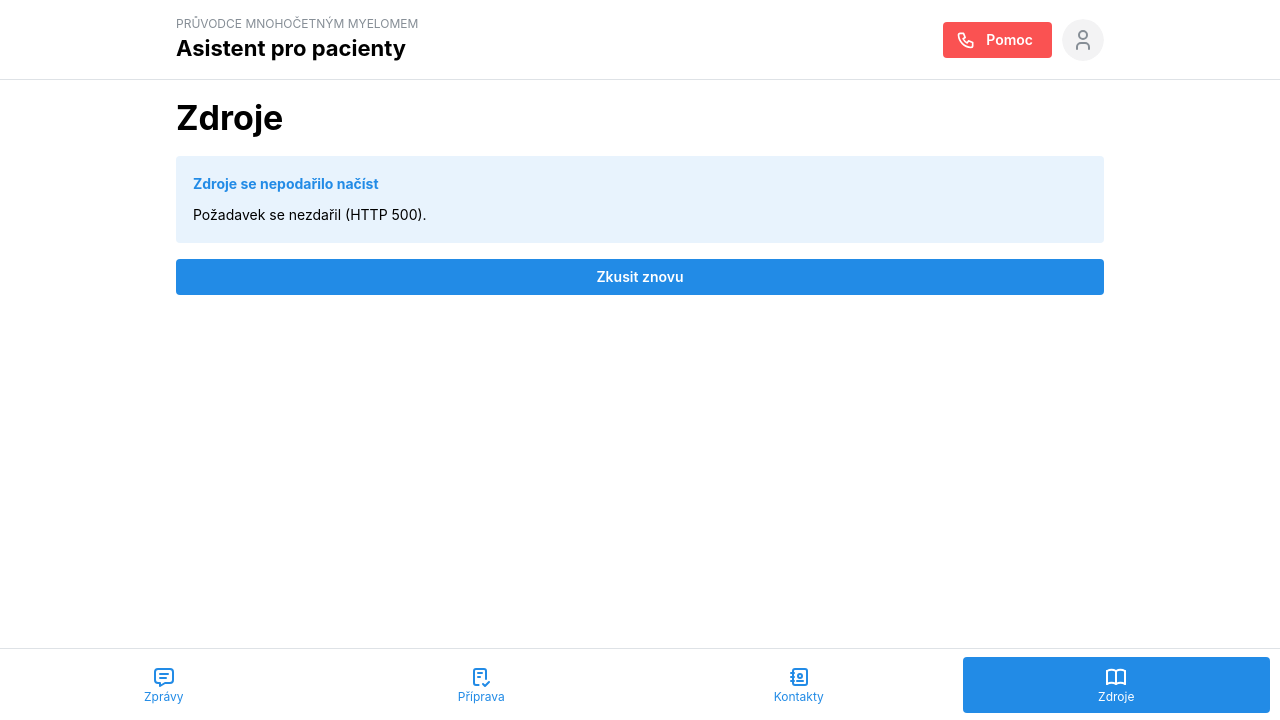
Scenario: application routing › shows knowledge errors and retries instead of showing a successful empty list
The width and height of the screenshot is (1280, 720).
Expected: the text "Zdroje se nepodařilo načíst" is shown, [193,173,378,194]
Expected: the text "Zatím nejsou dostupné žádné dokumenty." is not shown
Click the button "Zkusit znovu".
click(640, 277)  # box [176,259,1104,295]
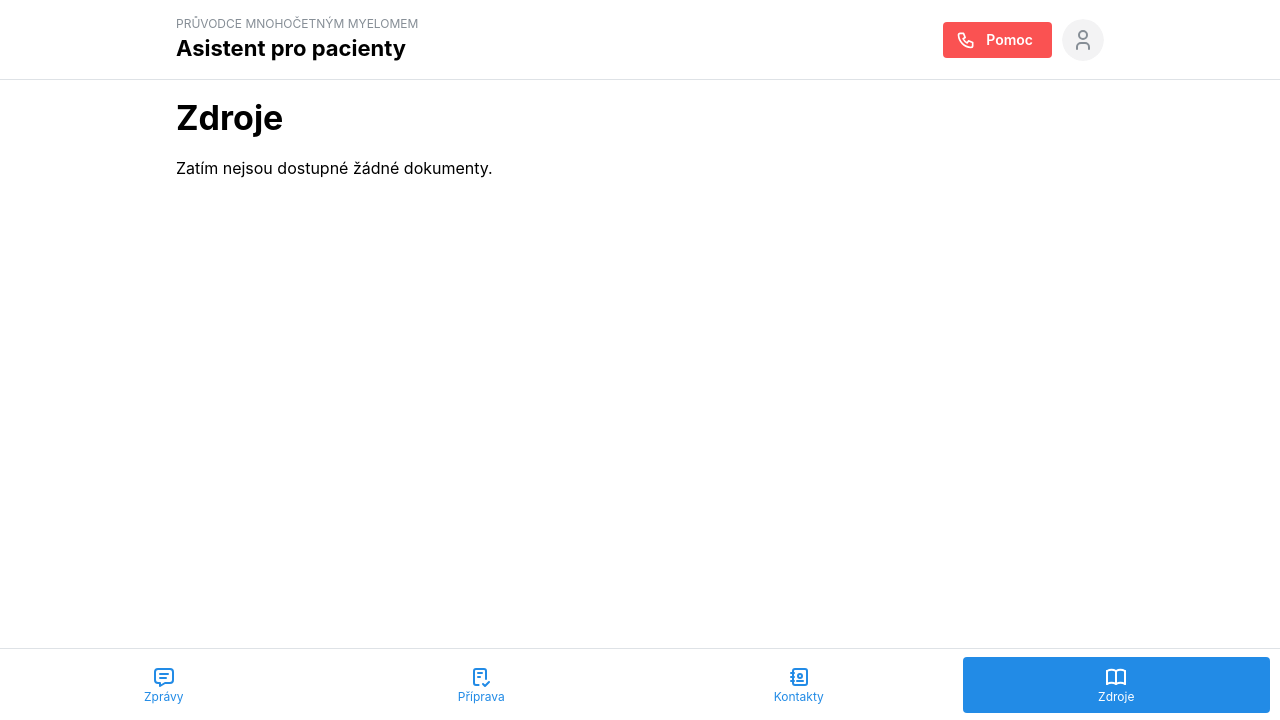
Result: the text "Zatím nejsou dostupné žádné dokumenty." is shown at [176,158,493,178]
